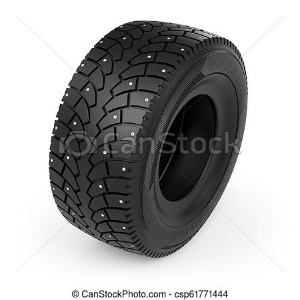tire: (48, 19, 251, 261)
